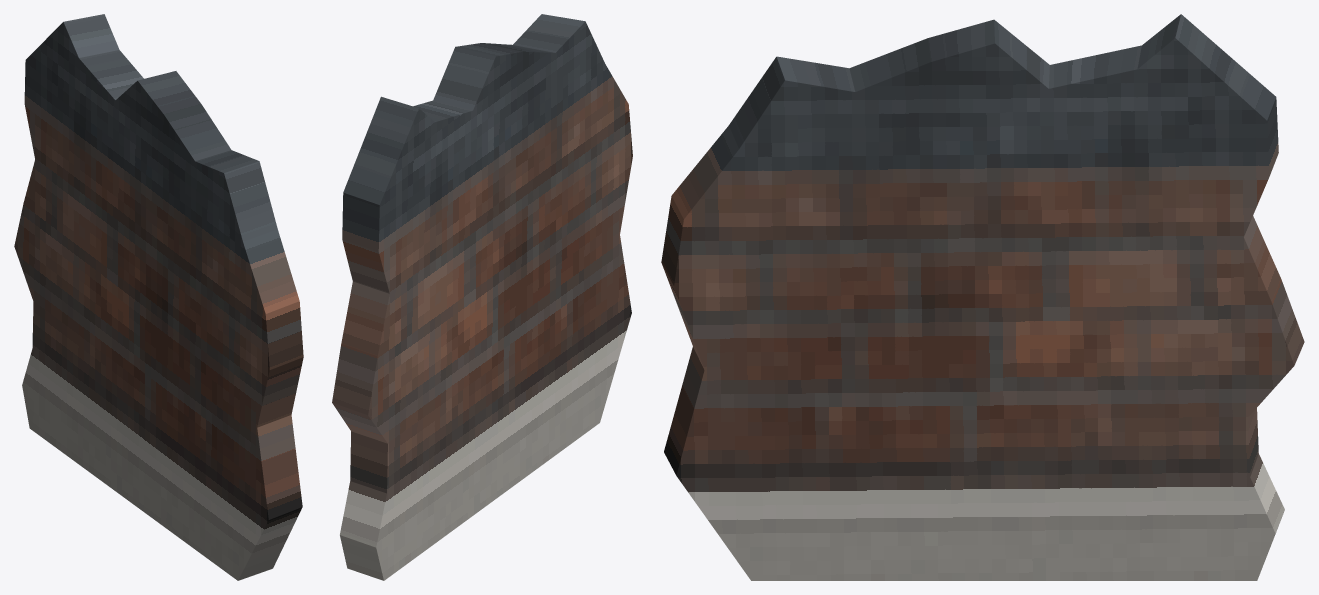
File: wall.glb
3 views of the same model, side by side, from view 1: azimuth 30°, elevation 25°; view 2: azimuth 150°, elevation 25°; view 3: azimuth 270°, elevation 25° (orthographic). The views are drawn at different scales.
Visible parts, largest first — view 1: wall; view 2: wall; view 3: wall.
Part boxes in pixels (x1,y1,x2,y2): wall: [14, 14, 303, 580]; wall: [332, 14, 632, 580]; wall: [661, 14, 1304, 580].
Bounding box in the file's own units: 0.0775 × 0.821 × 0.8814.
1 material, 1 textured.
